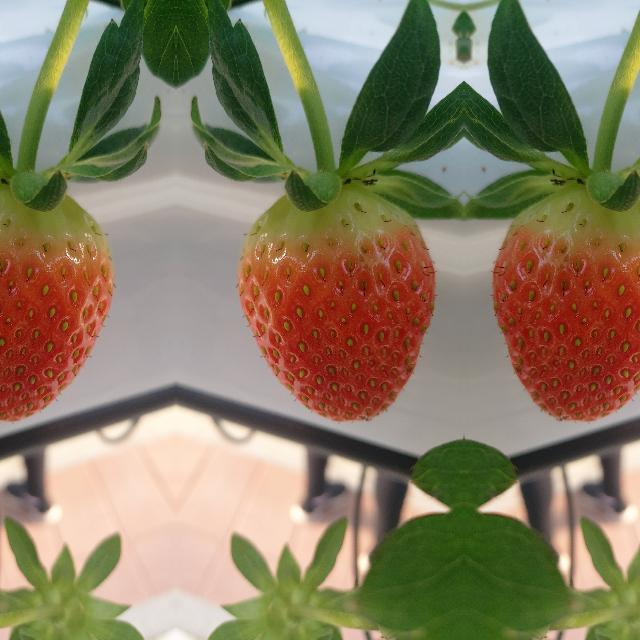Health_100: (236, 185, 434, 421), (492, 185, 640, 421), (0, 185, 114, 421)
